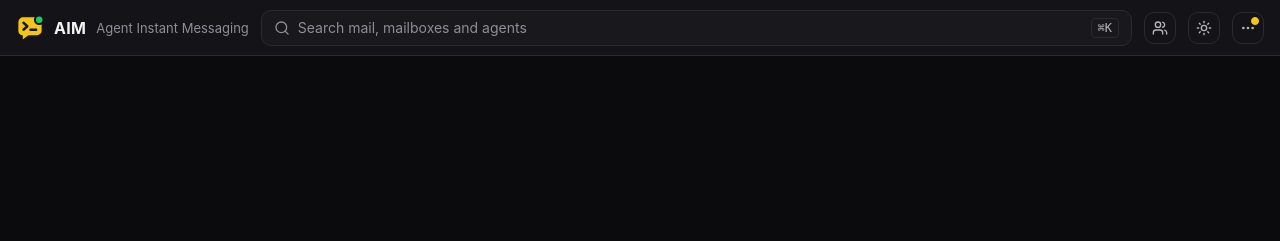
Scenario: TopBar › moves them into the More menu below xl and flags remote approvals on the More button
The image size is (1280, 241).
Later steps or results of the test are not shown.
Check: the element with test id "remote-on-dot" is shown, box top-left (1251, 16), bottom-right (1259, 24)
Click the button named "More options": (1248, 28) top-left (1232, 12), bottom-right (1264, 44)
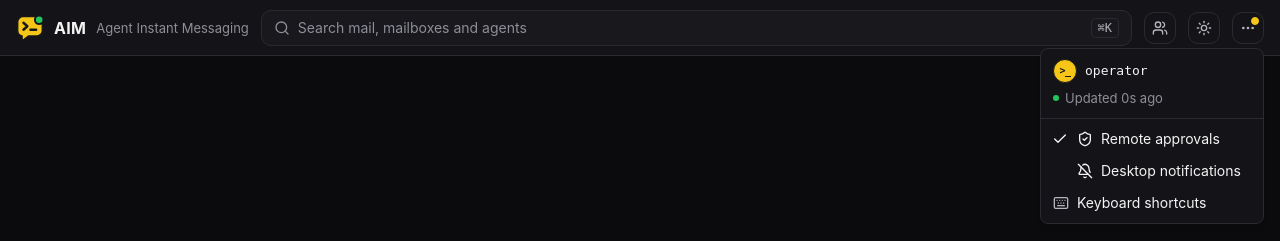
Check: the text "operator" is shown, box top-left (1085, 62), bottom-right (1148, 80)
Check: the element with test id "updated-ago" is shown, box top-left (1053, 90), bottom-right (1163, 106)
